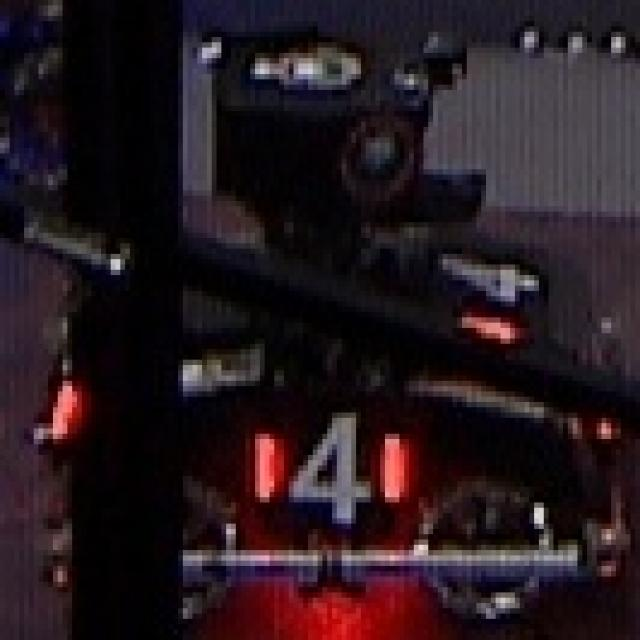R4: (255, 402, 409, 524)
